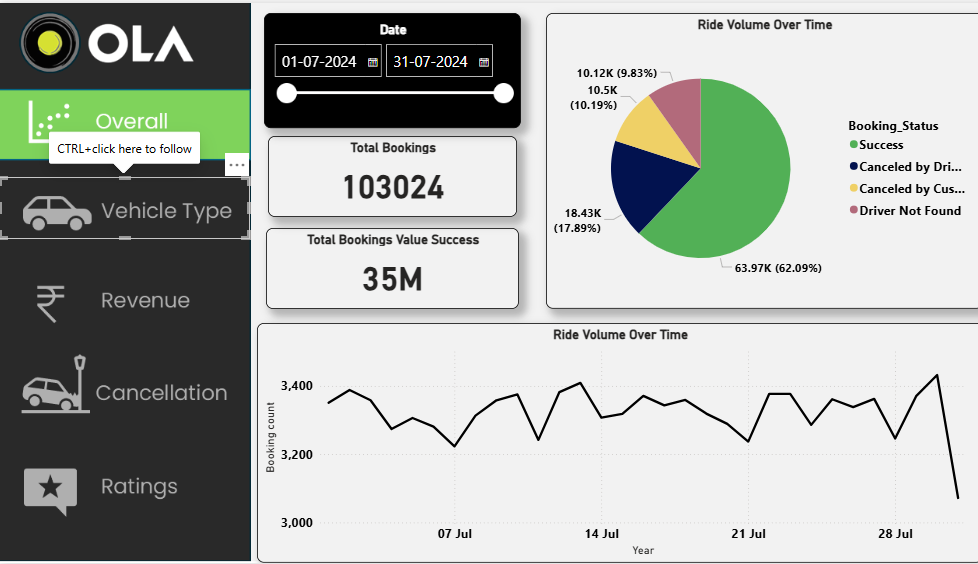

This screenshot's page, from the dashboard's own definition file:
{"tool":"powerbi","page":{"name":"Overall","canvas":[1280,720],"ordinal":0},"visuals":[{"type":"lineChart","title":"Ride Volume Over Time","fields":{"Y":["CountNonNull(Bookings.Booking_ID)"],"Category":["Bookings.Date.Variation.Date Hierarchy.Year","Bookings.Date.Variation.Date Hierarchy.Quarter","Bookings.Date.Variation.Date Hierarchy.Month","Bookings.Date.Variation.Date Hierarchy.Day"]},"box":[331.6,411.2,933,308.4],"z":0},{"type":"pieChart","title":"Ride Volume Over Time","fields":{"Category":["Bookings.Booking_Status"],"Y":["CountNonNull(Bookings.Booking_Status)"]},"box":[703,12.9,561.6,380.4],"z":1000},{"type":"slicer","title":"Date","fields":{"Values":["Bookings.Date"]},"box":[340.6,12.9,330.3,147.8],"z":2000},{"type":"card","title":"Total Bookings","fields":{"Values":["CountNonNull(Bookings.Booking_Status)"]},"box":[345.7,170.9,320,104.1],"z":3000},{"type":"card","title":"Total Bookings Value Success ","fields":{"Values":["Sum(Bookings.Booking_Value)"]},"box":[343.1,289.2,325.1,104.1],"z":4000},{"type":"actionButton","box":[0,574.5,322.6,100.2],"z":5000},{"type":"actionButton","box":[0,108,322.6,86.1],"z":6000}]}

Visuals, with their boxes on the page's 1280x720 design canvas (x1, y1, x2, y2). These are canvas units, not pixel positions in the 978x564 screenshot, which may show the page scaled, cropped or inside an application window:
"Ride Volume Over Time" lineChart: box=[332, 411, 1265, 720]
"Ride Volume Over Time" pieChart: box=[703, 13, 1265, 393]
"Date" slicer: box=[341, 13, 671, 161]
"Total Bookings" card: box=[346, 171, 666, 275]
"Total Bookings Value Success " card: box=[343, 289, 668, 393]
actionButton: box=[0, 574, 323, 675]
actionButton: box=[0, 108, 323, 194]
